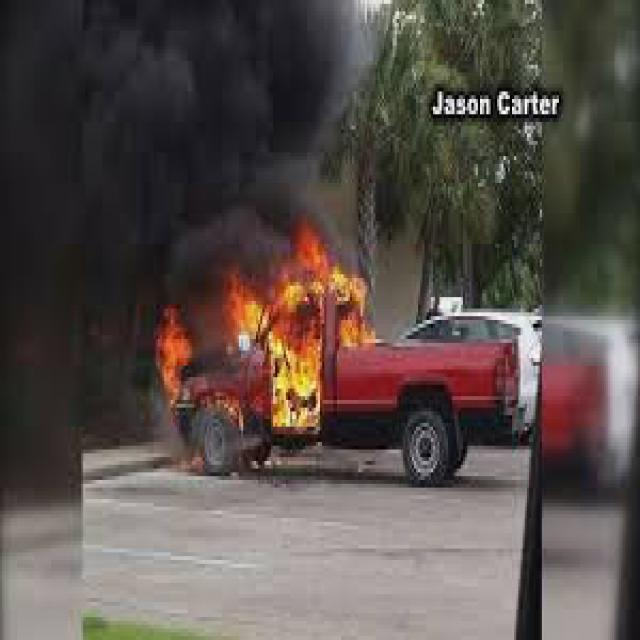fire: (142, 249, 381, 474)
